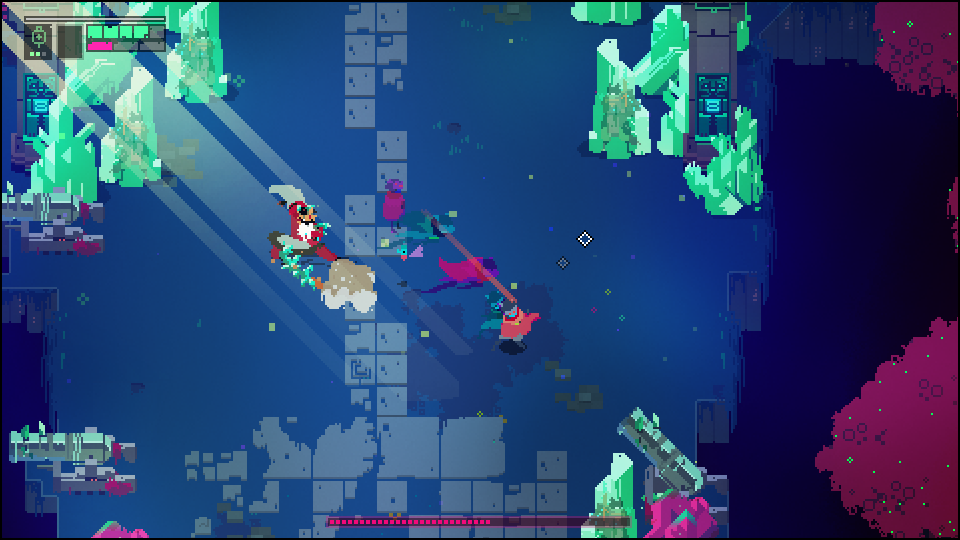hanged_man: (259, 179, 350, 299)
player: (493, 297, 544, 356)
